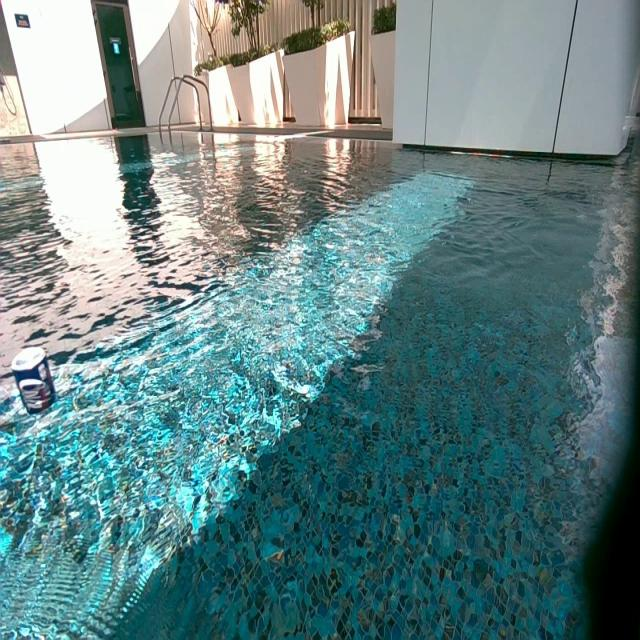Cans: (13, 344, 48, 392)
